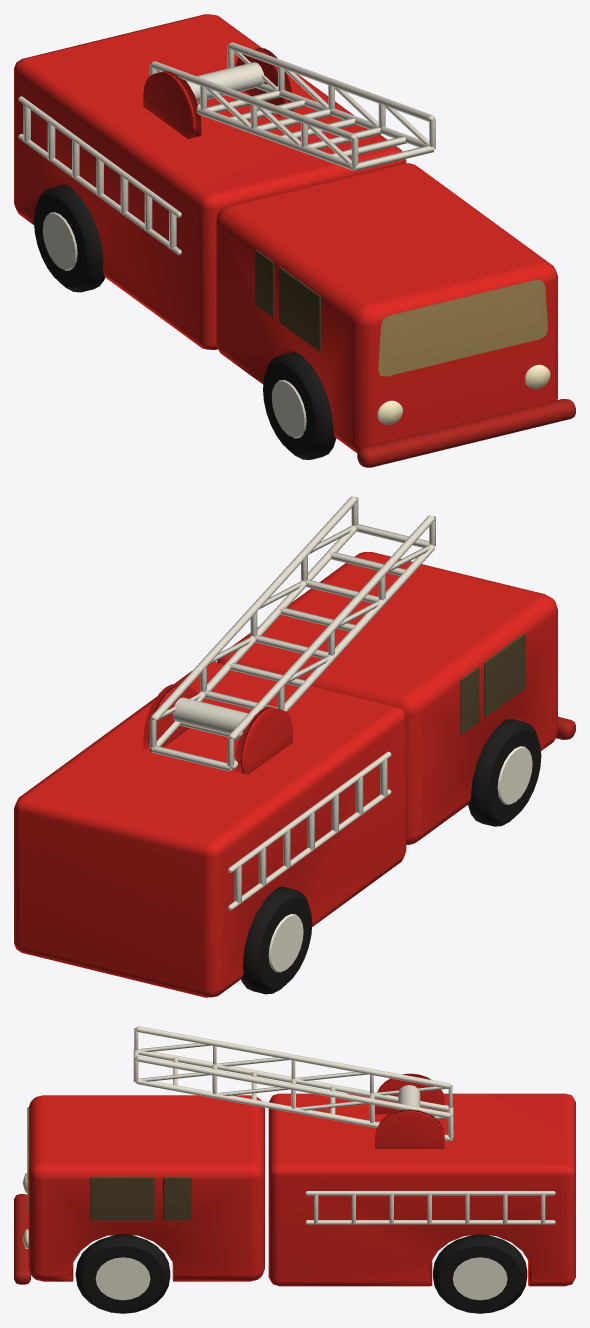
File: fire-truck.fbx
3 renders of one model, top to bottom at view 1: azimuth 30°, elevation 25°; view 2: azimuth 150°, elevation 25°; view 3: azimuth 270°, elevation 25°, orthographic. The views are drawn at different scales.
Parts seen in each view (by area): view 1: fire-truck; view 2: fire-truck; view 3: fire-truck.
Part boxes in pixels (left/top/right/bottom): fire-truck: left=14, top=14, right=575, bottom=467; fire-truck: left=14, top=496, right=575, bottom=997; fire-truck: left=14, top=1026, right=575, bottom=1313.
Bounding box in the file's own units: 800 × 1000 × 2200.
1 material, 1 textured.
